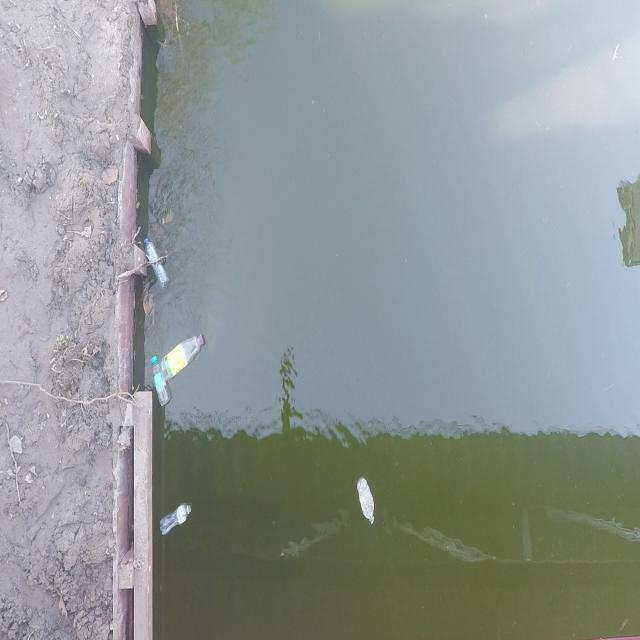Bouteille plastique: (161, 331, 207, 387), (144, 238, 173, 290), (148, 352, 171, 412), (156, 503, 195, 538), (356, 480, 377, 532)
